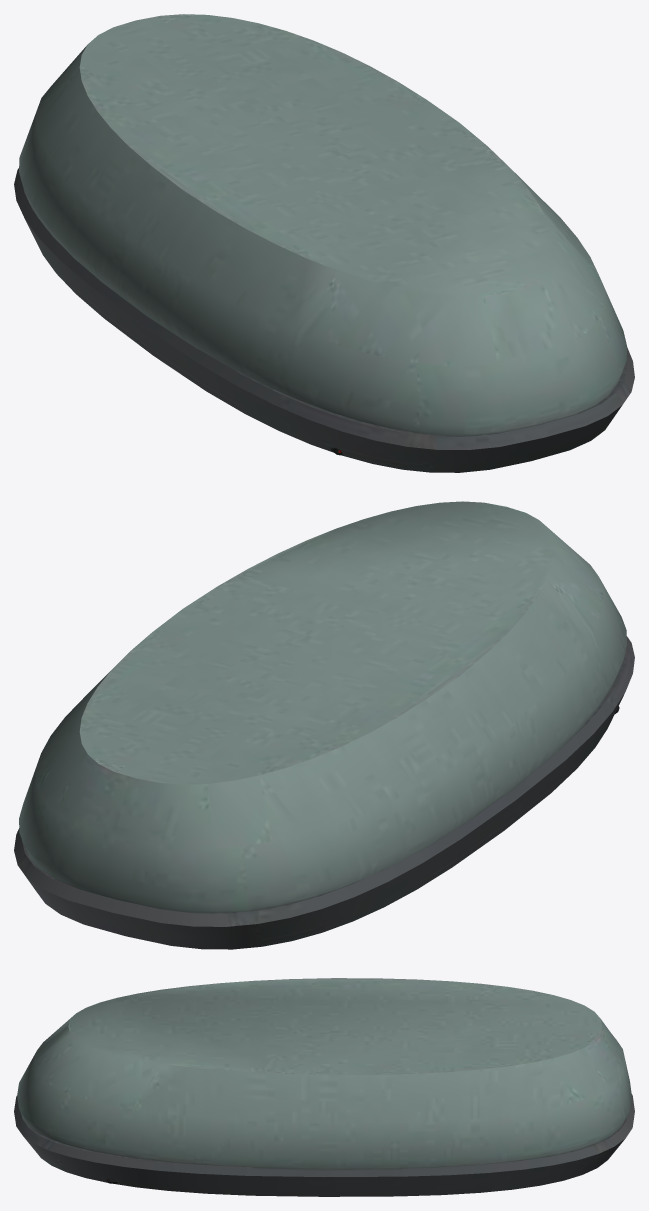
Rendered from mouse-f.glb.
3 renders of one model, top to bottom at view 1: azimuth 30°, elevation 25°; view 2: azimuth 150°, elevation 25°; view 3: azimuth 270°, elevation 25°, orthographic. The views are drawn at different scales.
Parts seen in each view (by area): view 1: so-baked; view 2: so-baked; view 3: so-baked.
Part boxes in pixels (x1,y1,x2,y2): so-baked: (14,14,634,472); so-baked: (14,501,634,949); so-baked: (14,978,634,1196).
Size of the model in its own units: 0.057 by 0.022 by 0.114.
1 material, 1 textured.
